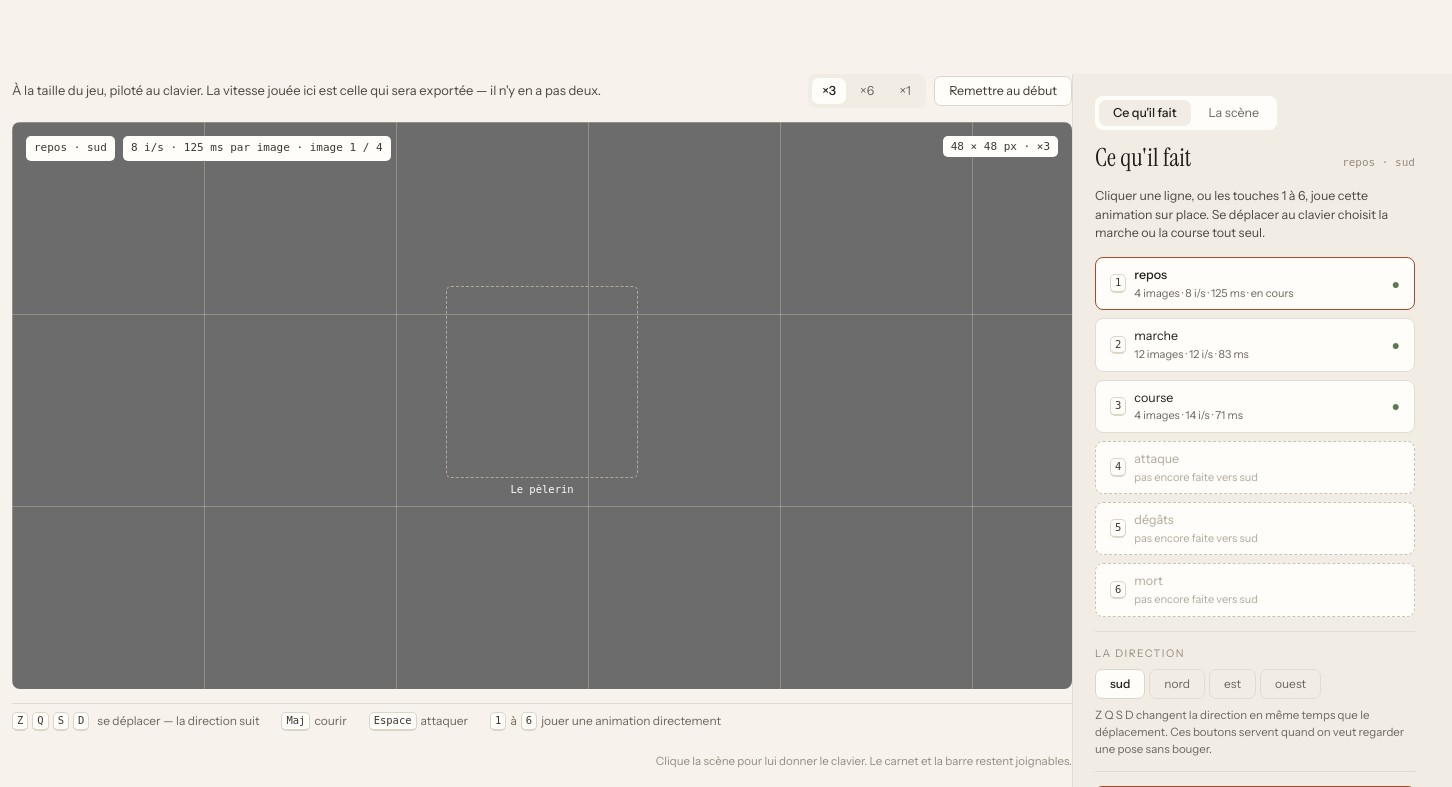
le clavier › Échap relâche le clavier
(page scrolled)
Focus the element named "Jouer Le pèlerin au clavier" at {"x": 542, "y": 406}, box [12,122,1072,689]
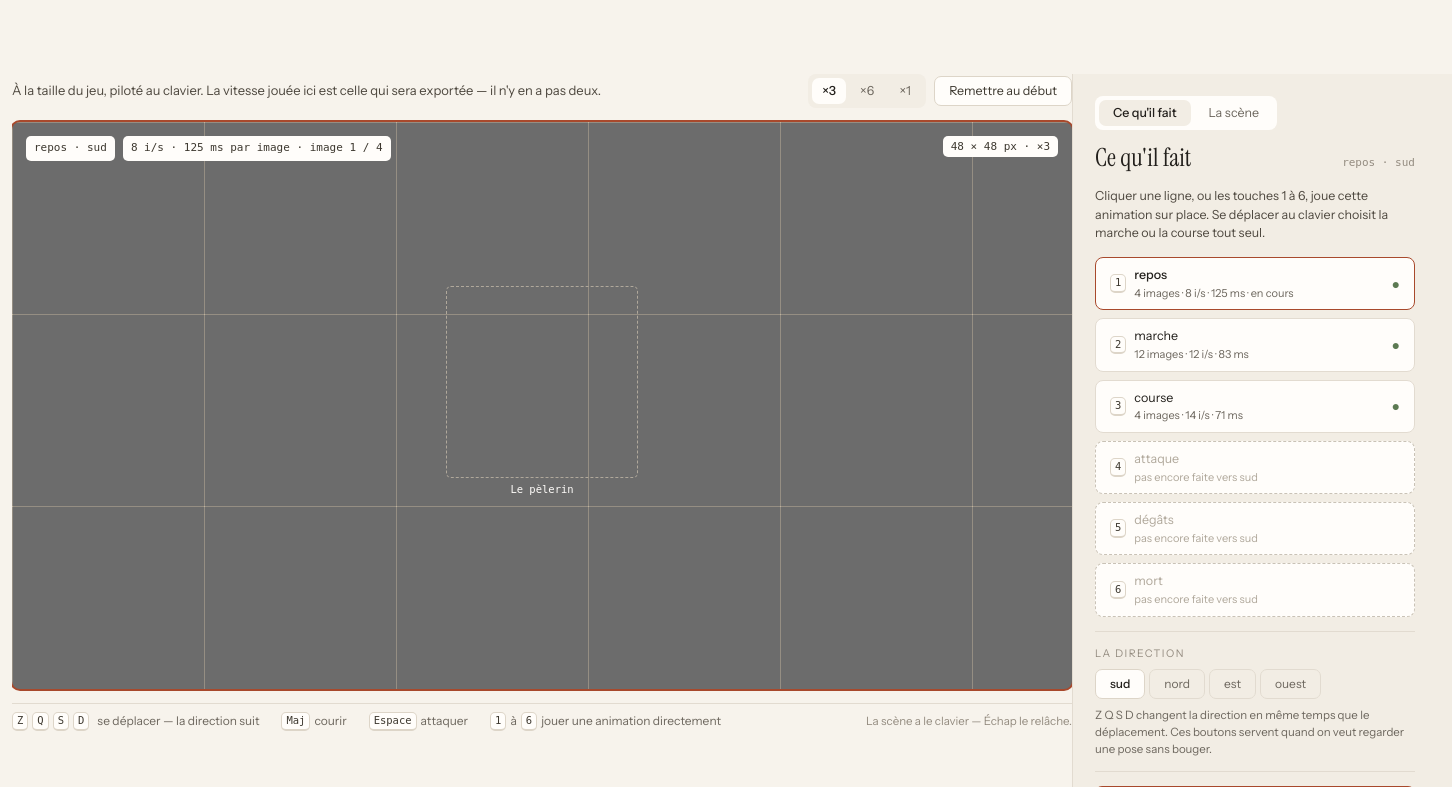
Now the text "La scène a le clavier — Échap le relâche." is shown, box [866,713,1072,730]
Press Escape in the element named "Jouer Le pèlerin au clavier", box [12,122,1072,689]
Leave the element named "Jouer Le pèlerin au clavier", box [12,122,1072,689]
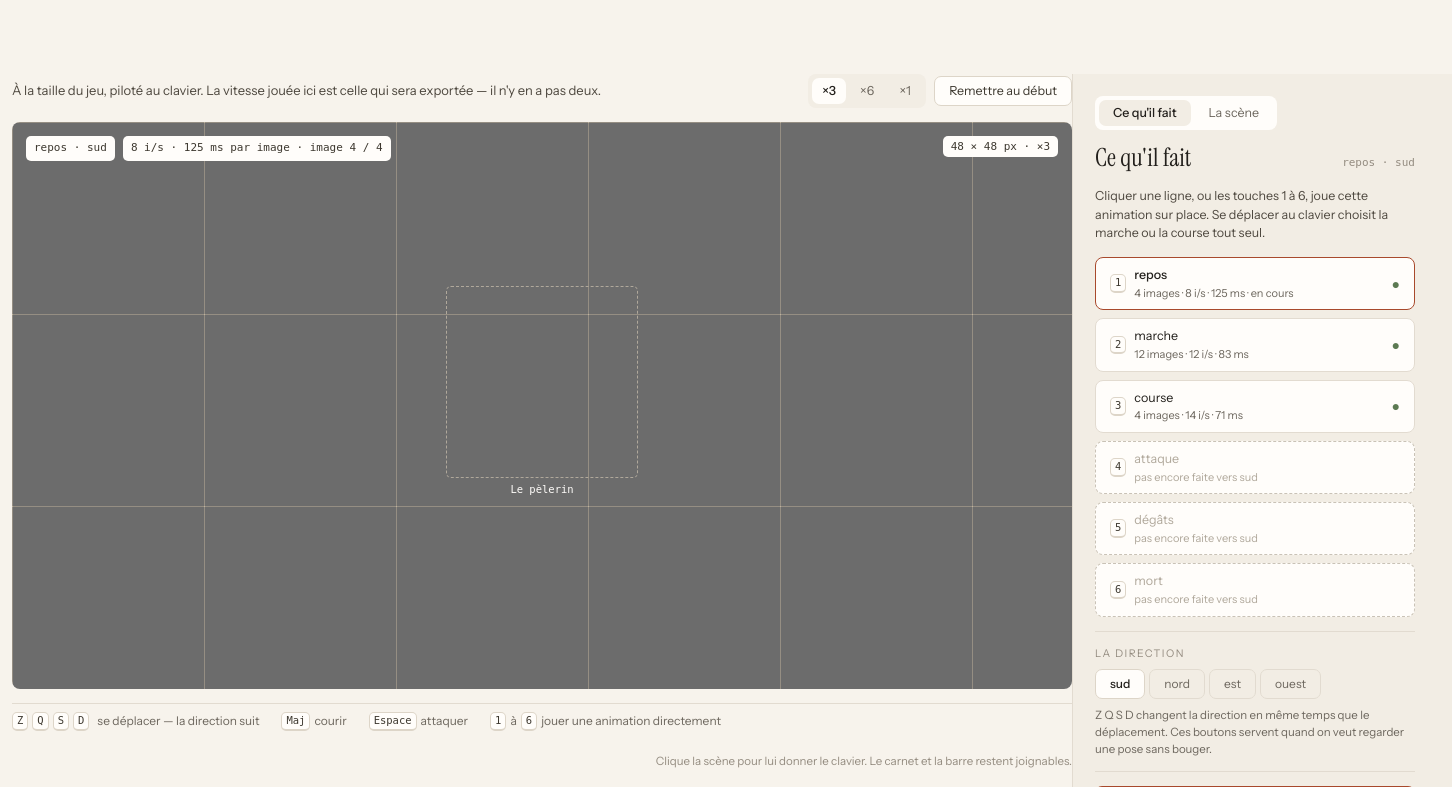
Now the text "Clique la scène pour lui donner le clavier" is shown, box [656,754,1072,768]
